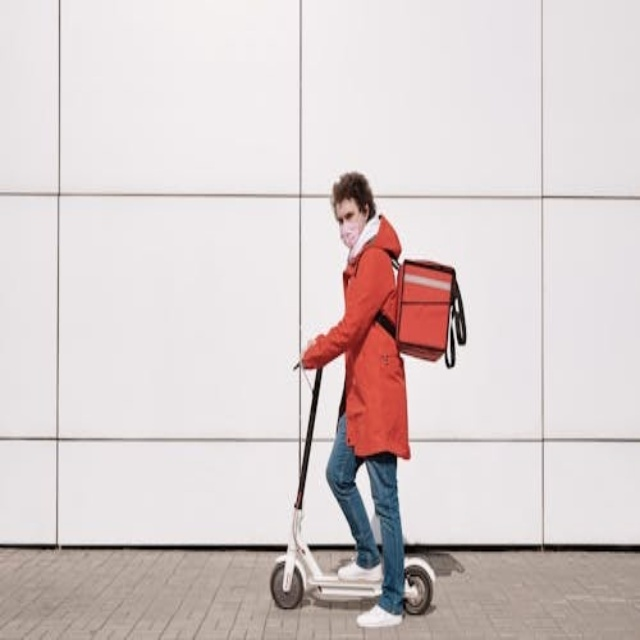Mascara: (339, 215, 363, 251)
Sin_gafas: (337, 210, 358, 225)
